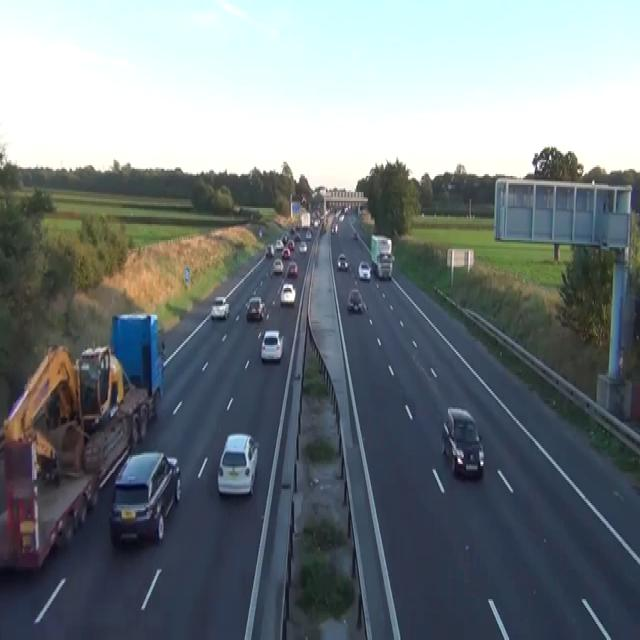Car: (108, 450, 181, 546), (441, 406, 484, 478), (217, 432, 258, 496), (260, 329, 284, 361), (347, 288, 367, 313), (245, 295, 265, 320), (210, 295, 229, 320), (280, 282, 296, 306), (358, 259, 371, 281), (337, 252, 348, 270), (272, 258, 283, 274), (287, 262, 298, 276), (265, 244, 274, 258), (281, 247, 290, 260), (298, 240, 307, 252), (287, 238, 294, 251), (275, 238, 283, 249), (305, 229, 312, 240), (319, 224, 326, 235), (244, 297, 250, 309), (281, 233, 288, 243), (331, 222, 337, 233), (313, 218, 319, 228), (301, 194, 306, 204), (352, 231, 357, 240), (294, 233, 300, 240), (334, 210, 340, 217), (290, 226, 295, 234), (331, 224, 335, 233), (339, 213, 344, 220), (258, 228, 262, 236)
Truck: (0, 311, 165, 571), (370, 233, 394, 279)
